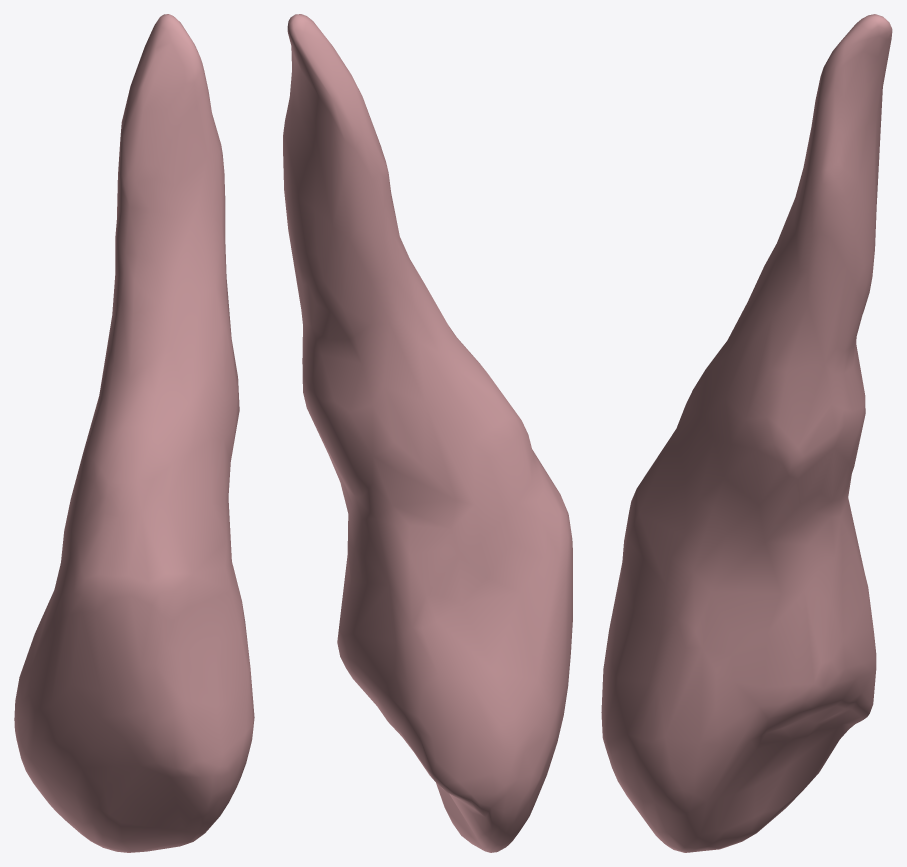
File: fma55798_fj1281.glb
3 views of the same model, side by side, from view 1: azimuth 30°, elevation 25°; view 2: azimuth 150°, elevation 25°; view 3: azimuth 270°, elevation 25° (orthographic). The views are drawn at different scales.
Visible parts, largest first — view 1: FMA55798_FJ1281; view 2: FMA55798_FJ1281; view 3: FMA55798_FJ1281.
Part boxes in pixels (<box>): FMA55798_FJ1281: <box>14,14,254,852</box>; FMA55798_FJ1281: <box>283,14,572,852</box>; FMA55798_FJ1281: <box>601,14,892,852</box>.
Bounding box in the file's own units: 0.00926 × 0.0314 × 0.00932.
